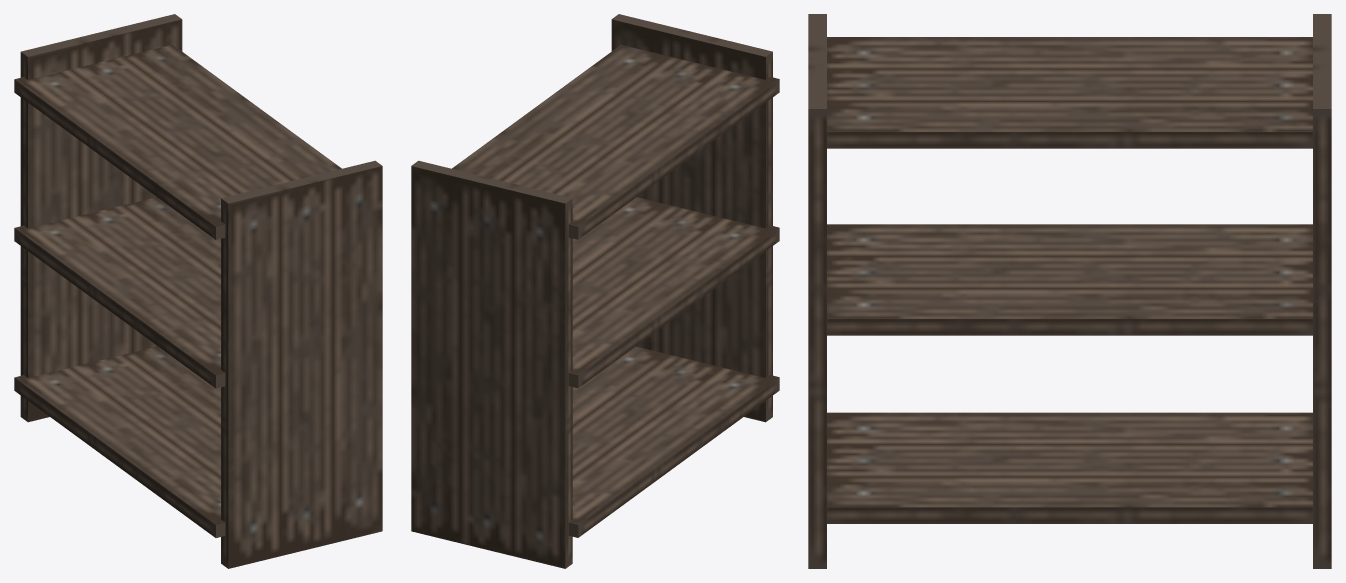
Rendered from wooden_shelf 1.fbx.
The picture shows the model from 3 angles, left to right: view 1: azimuth 30°, elevation 25°; view 2: azimuth 150°, elevation 25°; view 3: azimuth 270°, elevation 25°; orthographic projection. The views are drawn at different scales.
Visible parts, largest first — view 1: pCube22; view 2: pCube22; view 3: pCube22.
Boxes of the visible parts, bbox=[...] form: pCube22: bbox=[14, 14, 382, 568]; pCube22: bbox=[411, 14, 779, 568]; pCube22: bbox=[808, 14, 1331, 568].
Bounding box in the file's own units: 295 × 628 × 647.
